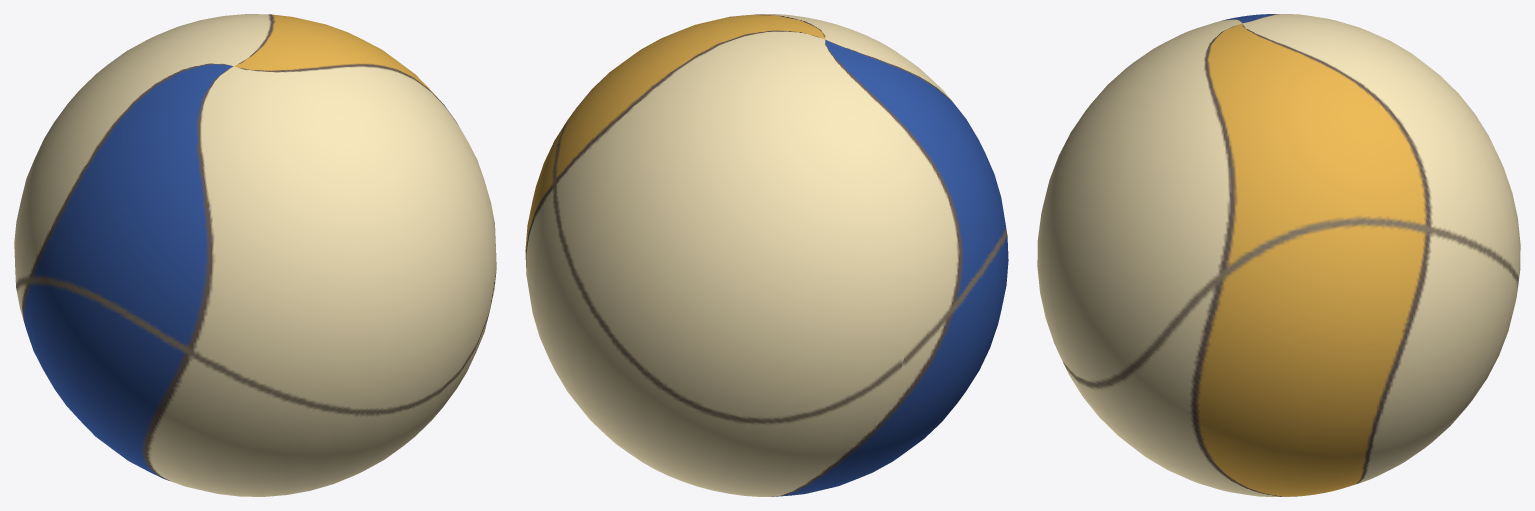
File: volleyball.glb
3 renders of one model, left to right at view 1: azimuth 30°, elevation 25°; view 2: azimuth 150°, elevation 25°; view 3: azimuth 270°, elevation 25°, orthographic.
Size of the model in its own units: 0.9582 by 0.9598 by 0.959.
Materials: 1 (1 with a texture image).
